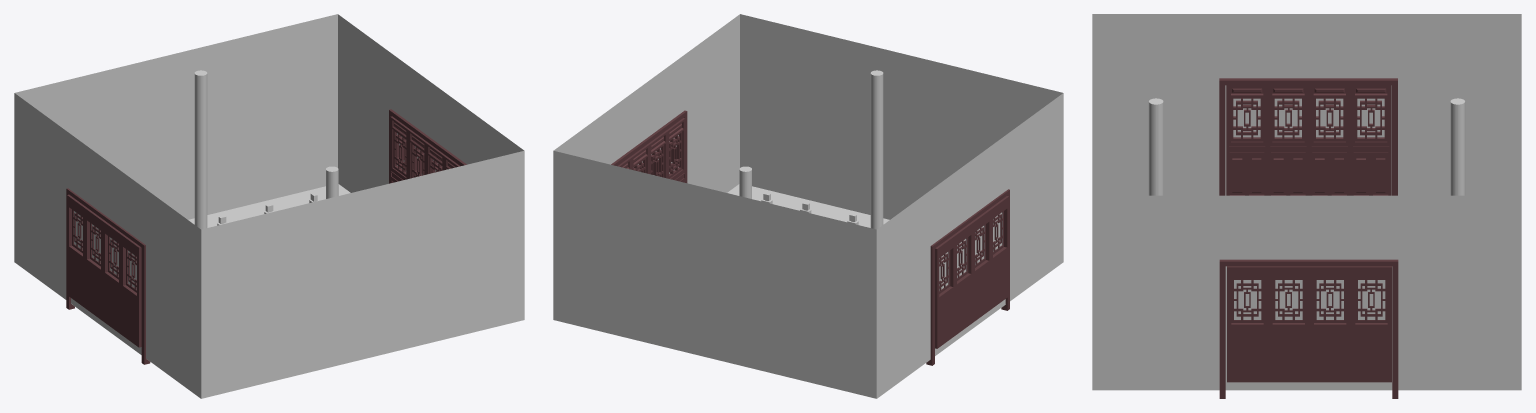
File: Hall_of_Silence_Interior.fbx
3 renders of one model, left to right at view 1: azimuth 30°, elevation 25°; view 2: azimuth 150°, elevation 25°; view 3: azimuth 270°, elevation 25°, orthographic. The views are drawn at different scales.
Visible parts, largest first — view 1: Plane.001, Plane.002, Cube.007, Cylinder, Cube.031, Plane, Cube.001, Cube.028; view 2: Plane.001, Plane.002, Cube.007, Cylinder, Cube.031, Plane, Cube.001, Cube.028; view 3: Plane.002, Cube.031, Cube.007, Cube.028, Cylinder, Cube.001.
Part boxes in pixels (x1=…): Plane.001: x1=15, y1=14, x2=524, y2=398; Plane.002: x1=14, y1=14, x2=523, y2=398; Cube.007: x1=67, y1=194, x2=141, y2=347; Cylinder: x1=194, y1=70, x2=338, y2=229; Cube.031: x1=390, y1=116, x2=459, y2=183; Plane: x1=16, y1=184, x2=522, y2=395; Cube.001: x1=66, y1=188, x2=150, y2=364; Cube.028: x1=389, y1=109, x2=466, y2=183; Plane.001: x1=553, y1=14, x2=1062, y2=398; Plane.002: x1=554, y1=14, x2=1063, y2=398; Cube.007: x1=935, y1=196, x2=1008, y2=348; Cylinder: x1=739, y1=70, x2=883, y2=229; Cube.031: x1=618, y1=118, x2=685, y2=182; Plane: x1=555, y1=184, x2=1061, y2=395; Cube.001: x1=926, y1=189, x2=1009, y2=365; Cube.028: x1=611, y1=110, x2=687, y2=182; Plane.002: x1=1092, y1=14, x2=1521, y2=390; Cube.031: x1=1227, y1=266, x2=1391, y2=382; Cube.007: x1=1226, y1=85, x2=1391, y2=195; Cube.028: x1=1219, y1=259, x2=1398, y2=398; Cylinder: x1=1148, y1=98, x2=1465, y2=195; Cube.001: x1=1219, y1=78, x2=1397, y2=195.
Bounding box in the file's own units: 1024 × 522 × 1000.
